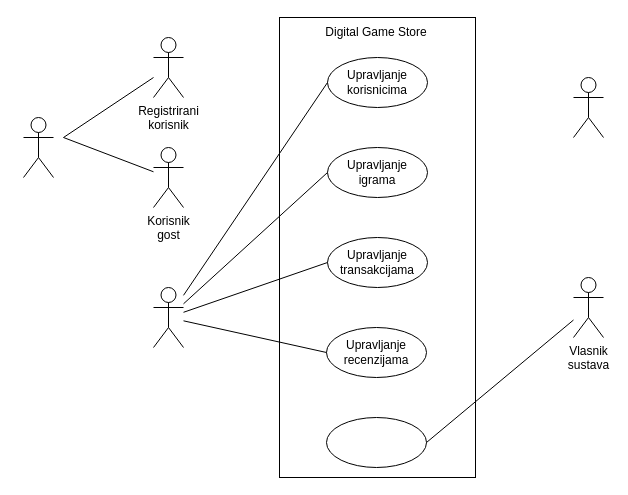
The diagram is 628 pixels wide and 495 high, and some of its shapes have lost their labels. The shapes that lost their labels are listed below. From the top down, each one's centre as x and y in pixels, then its label:
(x=588, y=107): Naplatni sustav
(x=38, y=147): Korisnik
(x=168, y=317): Administrator
(x=376, y=442): Pregled izvještaja
